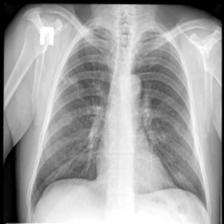tuberculosis: (23, 21, 214, 218)
